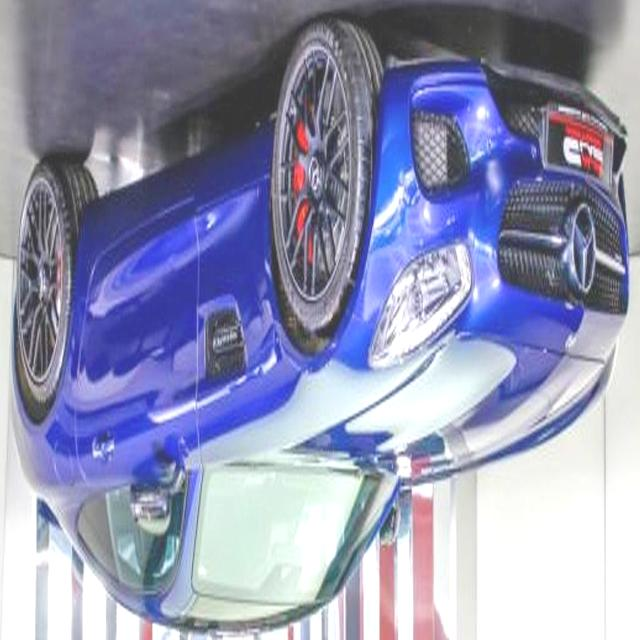blue: (8, 23, 630, 631)
